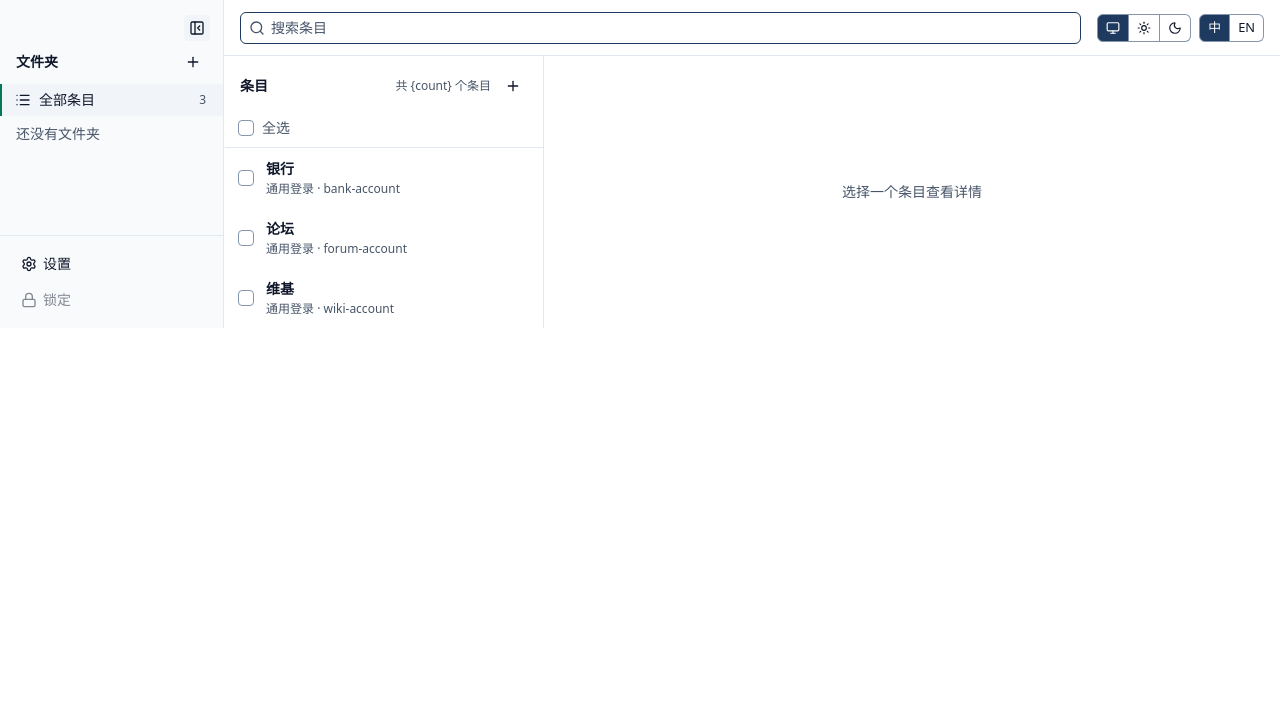
Test: 新建标签时的校验 › 名称为空时提示请填写名称, 不创建
Click the button "设置". click: (112, 264)
box: [12,248,211,280]
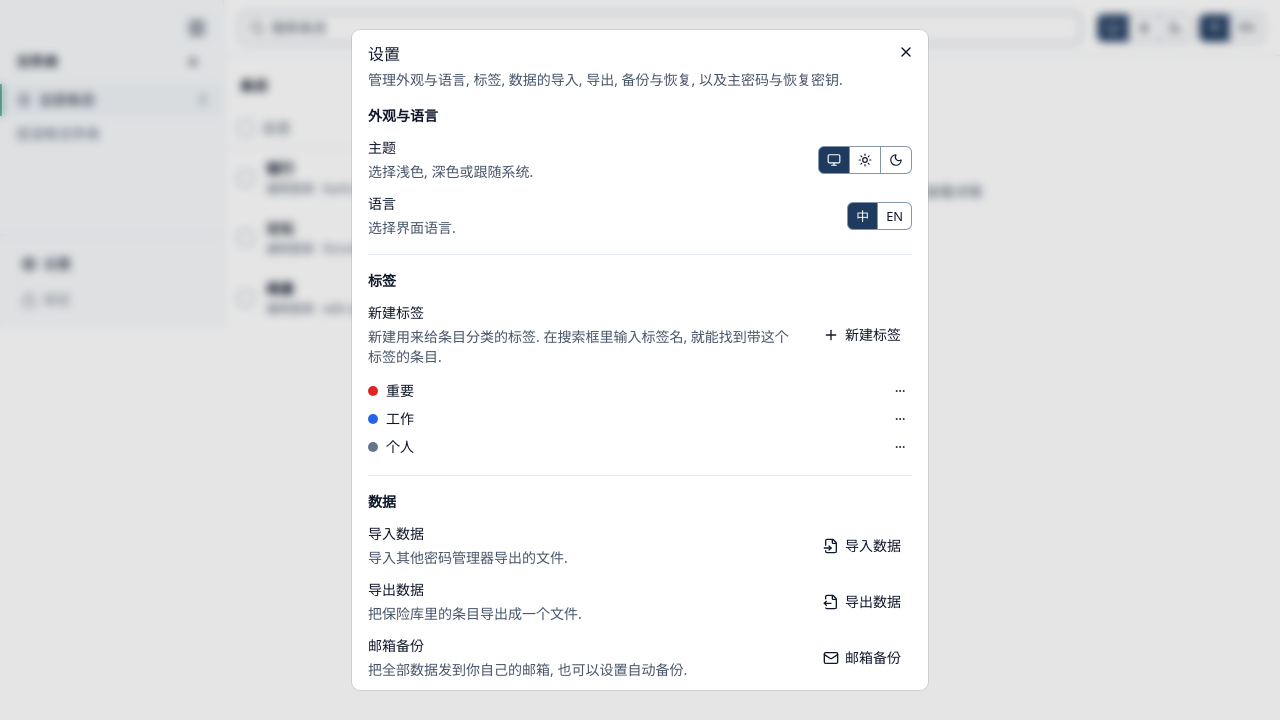
Click the button "新建标签". click: (863, 335)
box: [814,319,912,351]
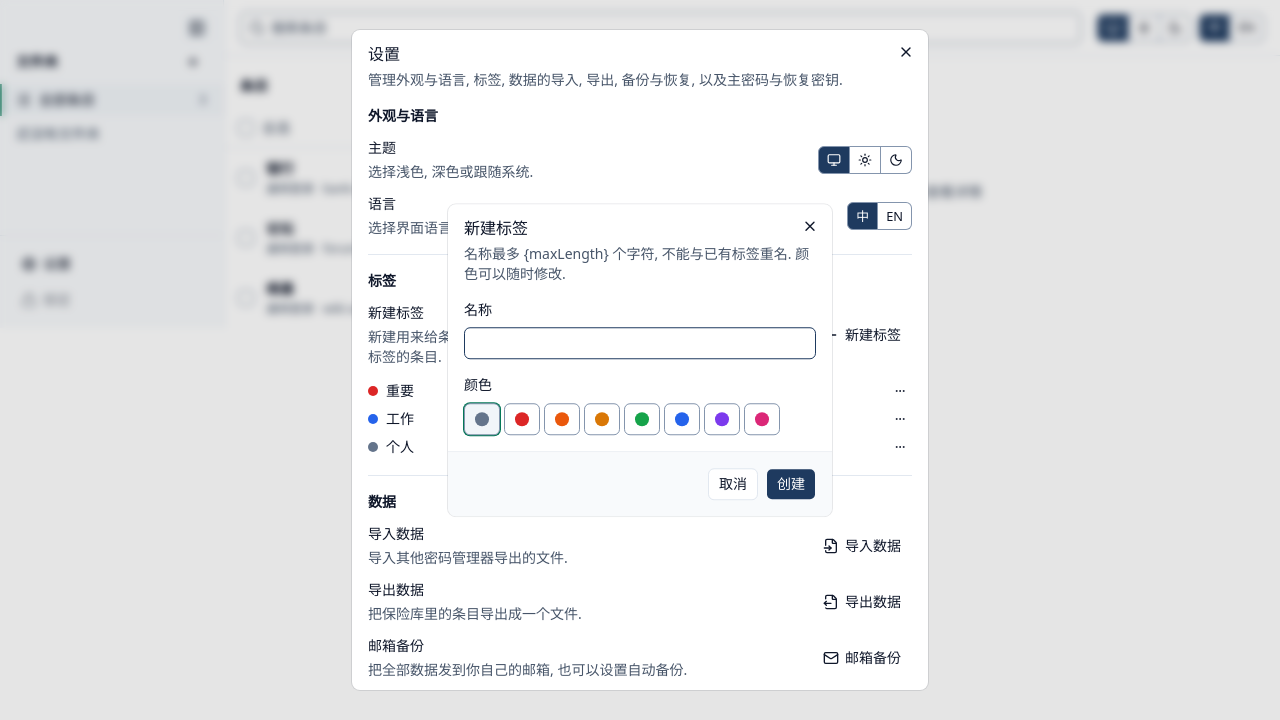
Click the button "创建". click: (791, 484)
box: [766,468,816,500]
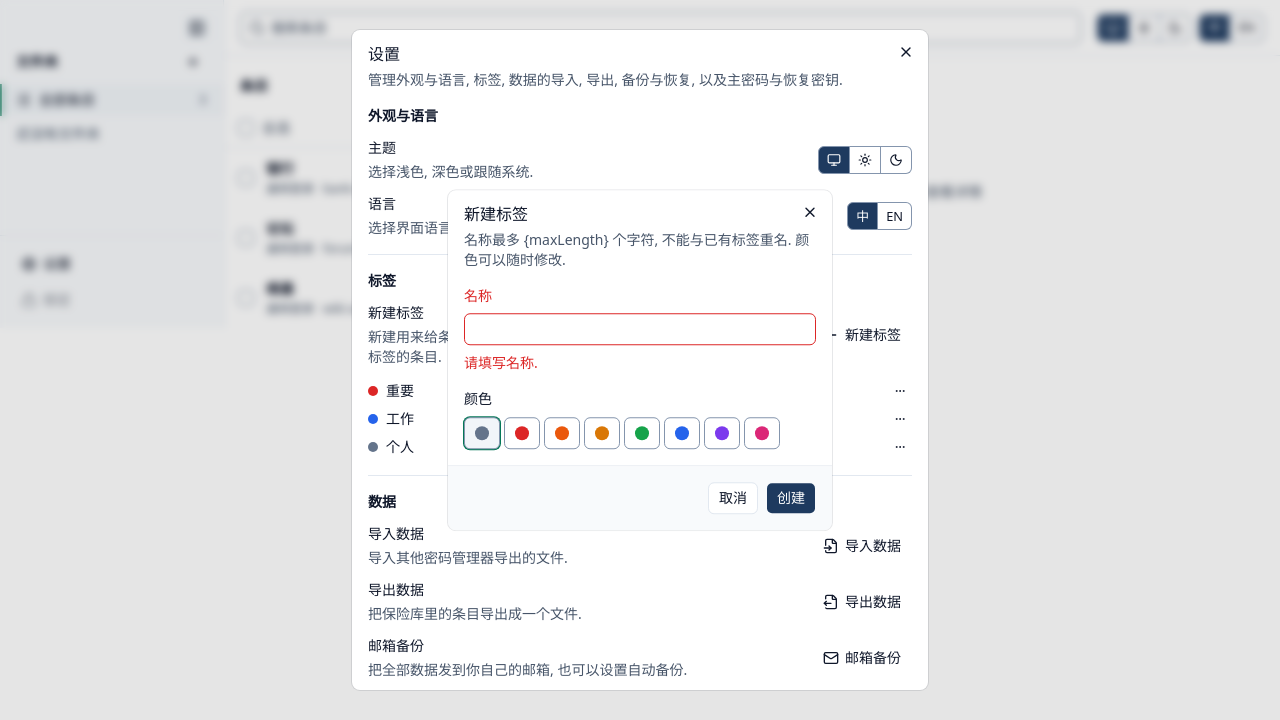
Result: the text "请填写名称." is shown at [464,354,538,372]
